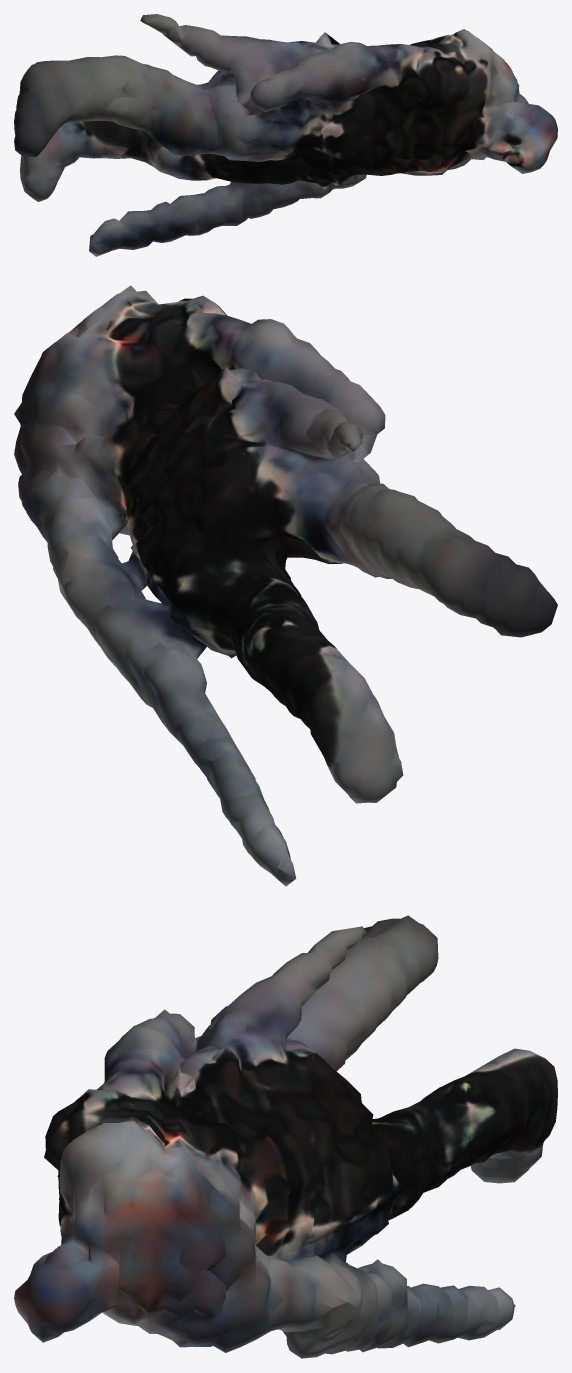
3 renders of one model, top to bottom at view 1: azimuth 30°, elevation 25°; view 2: azimuth 150°, elevation 25°; view 3: azimuth 270°, elevation 25°, orthographic. The views are drawn at different scales.
Size of the model in its own units: 0.8947 by 0.5418 by 0.6547.
Materials: 1 (1 with a texture image).
